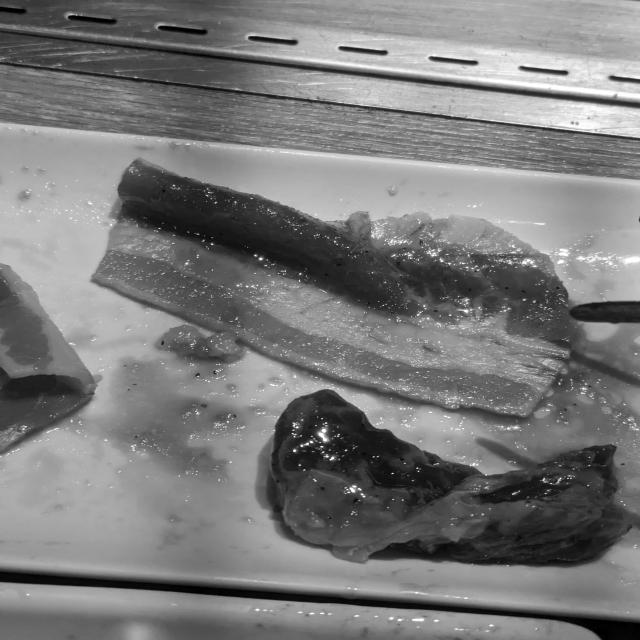NG raw beef,: (84, 156, 606, 425), (249, 385, 640, 572)
